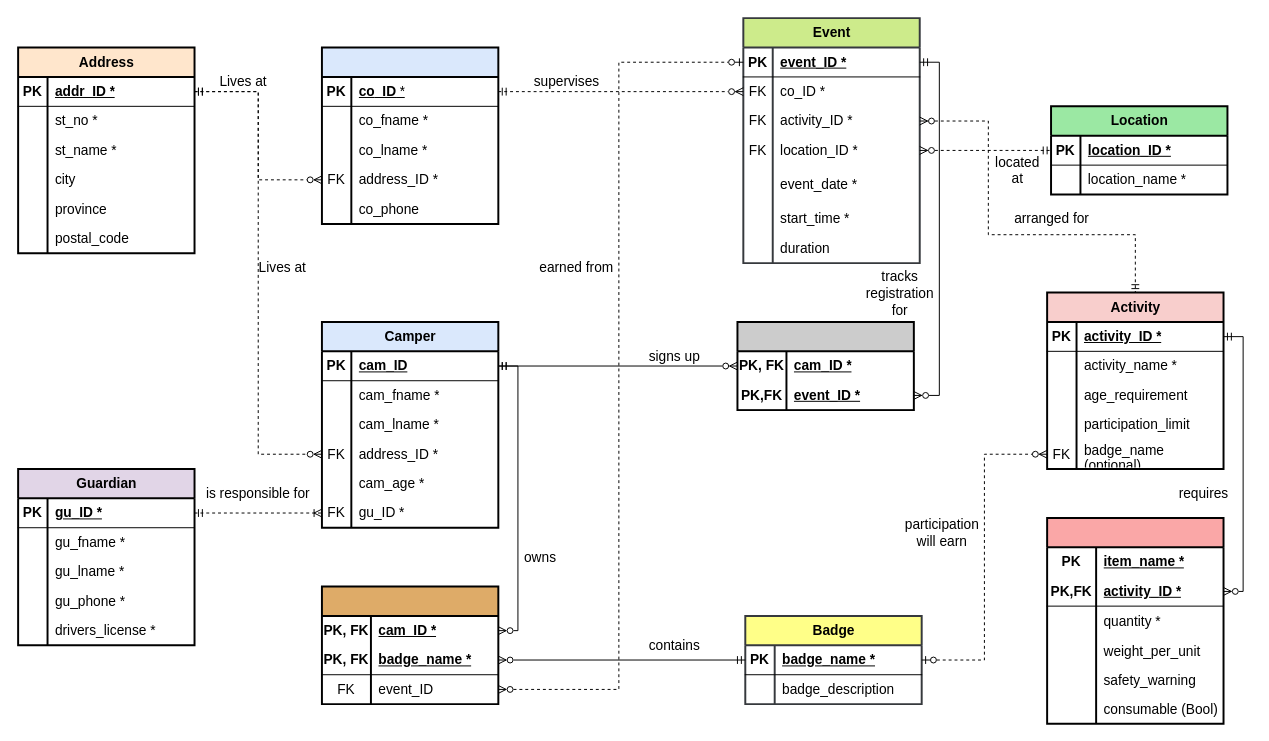
This 1269x741 diagram has some shape labels left out. Here are the shapes that lost their labels. From the top down, the box of each, then its label:
(320, 46, 499, 224): Counsellor
(736, 320, 914, 411): Registration
(1046, 516, 1224, 724): Equipment
(320, 585, 499, 705): Collection
